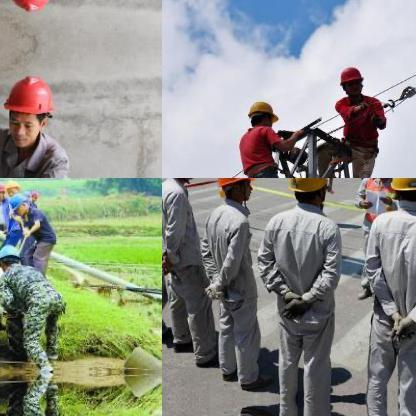Helmet: (0, 68, 57, 147), (242, 94, 276, 130), (334, 62, 366, 98), (284, 178, 330, 203), (212, 178, 257, 203), (0, 0, 58, 18), (387, 178, 415, 204), (0, 241, 21, 272), (8, 191, 28, 213), (5, 178, 22, 196), (0, 179, 5, 200)
